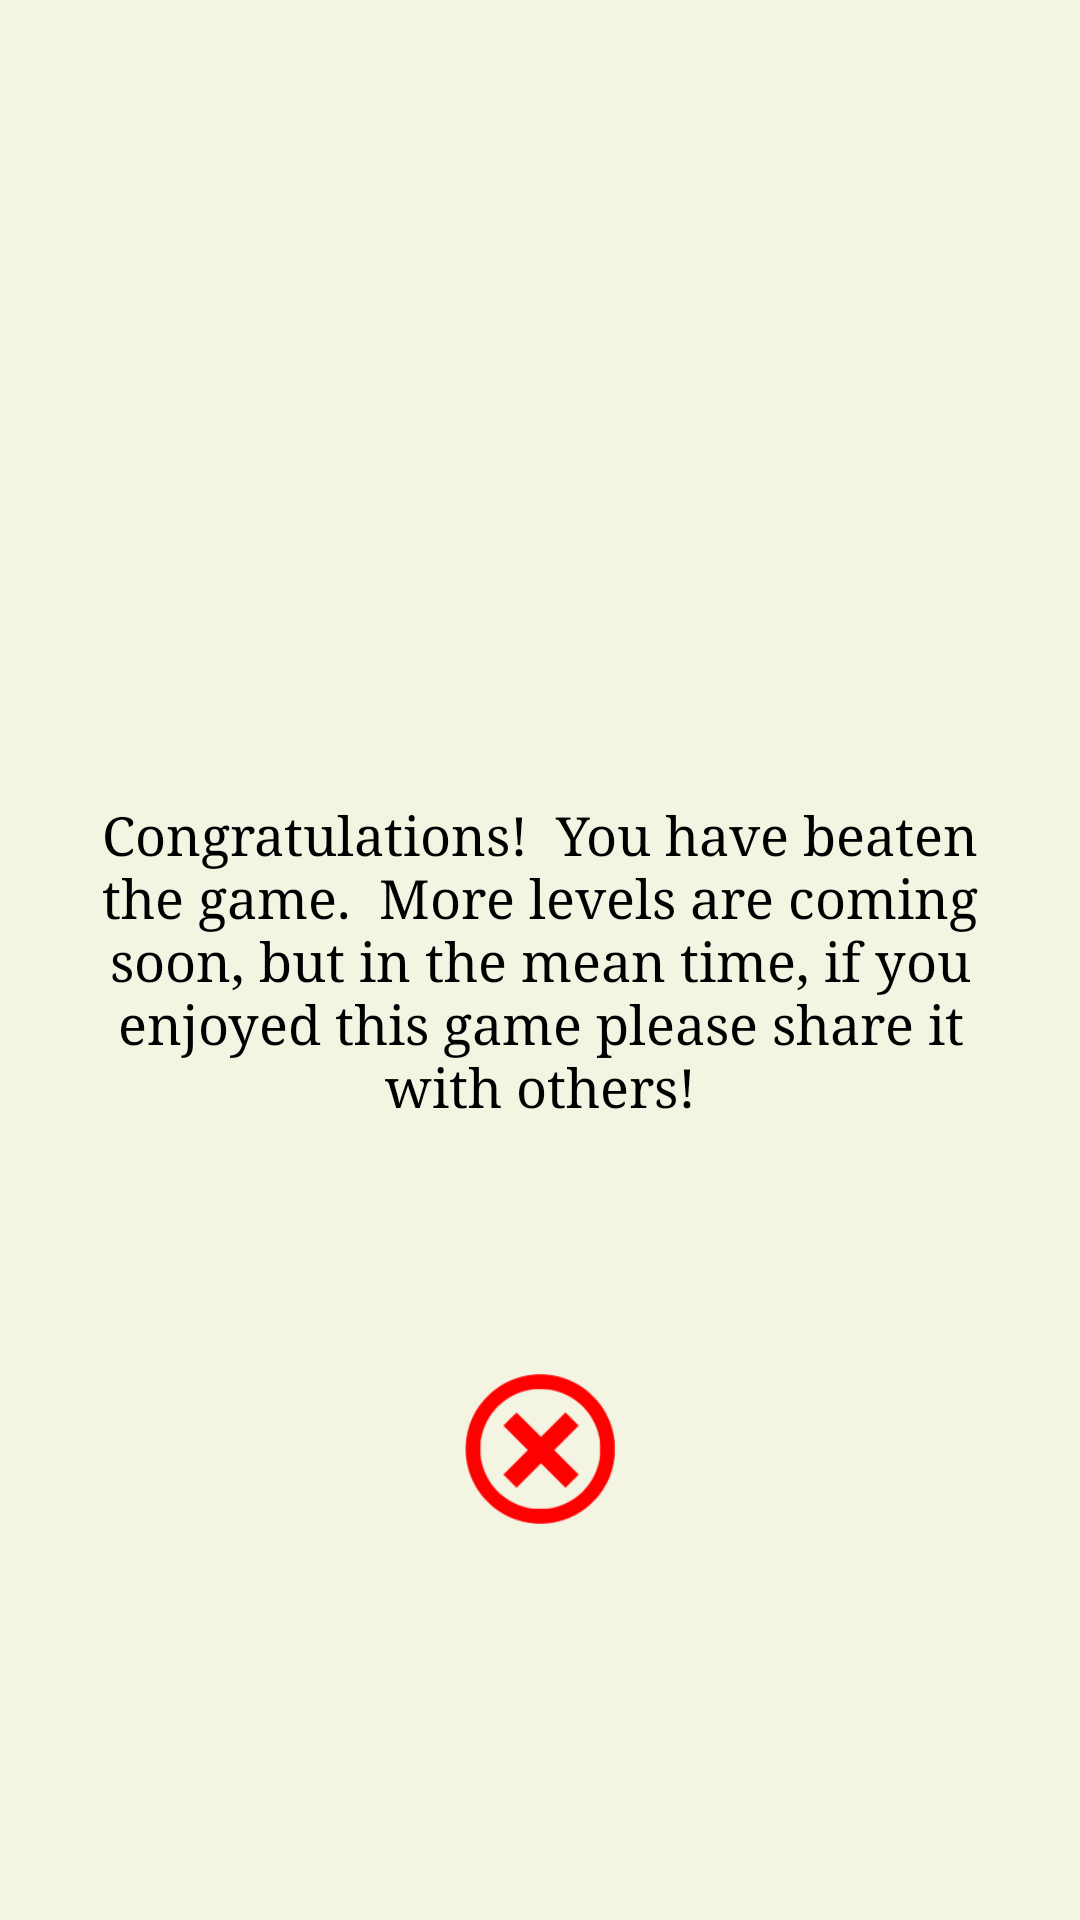

Icons on this 1080px×1920px Android screen, each with its box as {"left": x1, "top": y1, "right": x2, "bottom": y2}:
exit: {"left": 465, "top": 1374, "right": 615, "bottom": 1524}
